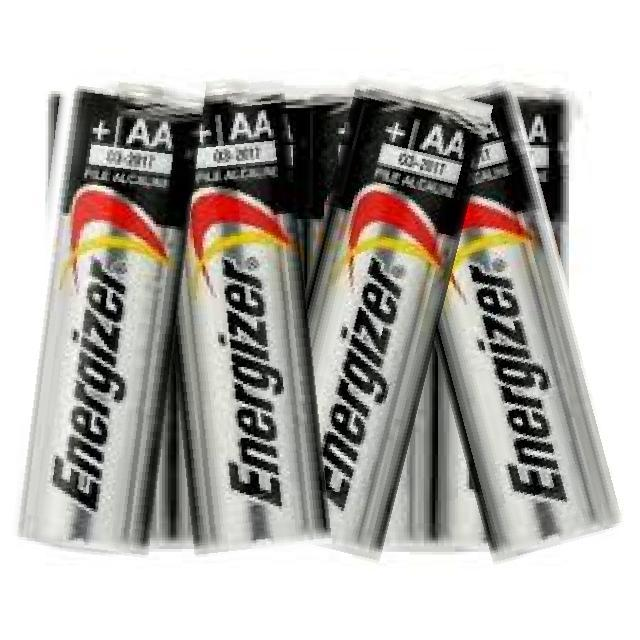Battery: (12, 72, 206, 564), (432, 79, 623, 562), (436, 85, 626, 558), (306, 91, 492, 557), (178, 90, 329, 553), (289, 94, 357, 291), (435, 342, 493, 552), (437, 351, 492, 558), (393, 344, 439, 552)
